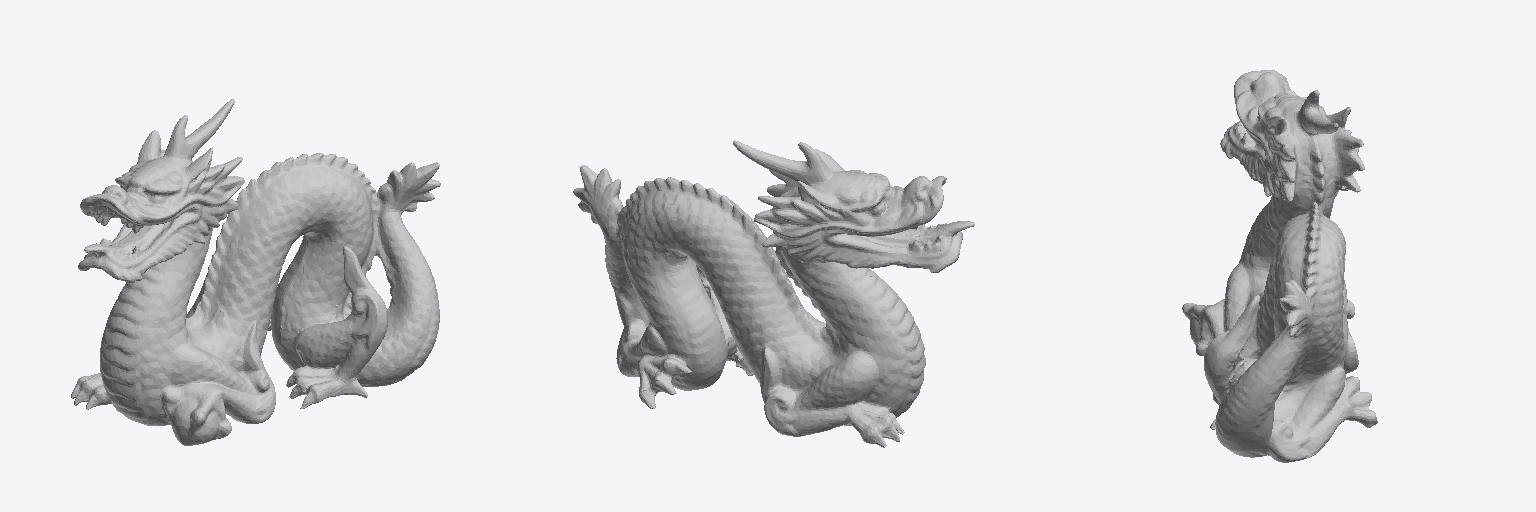
Rendered from dragon_50k.obj.
3 views of the same model, side by side, from view 1: azimuth 30°, elevation 25°; view 2: azimuth 150°, elevation 25°; view 3: azimuth 270°, elevation 25° (orthographic).
Parts seen in each view (by area): view 1: dragon_vrip.001; view 2: dragon_vrip.001; view 3: dragon_vrip.001.
Boxes of the visible parts, <box> form: dragon_vrip.001: <box>71,99,440,445</box>; dragon_vrip.001: <box>573,140,974,447</box>; dragon_vrip.001: <box>1182,70,1377,462</box>.
Bounding box in the file's own units: 1.06 × 0.7503 × 0.4761.